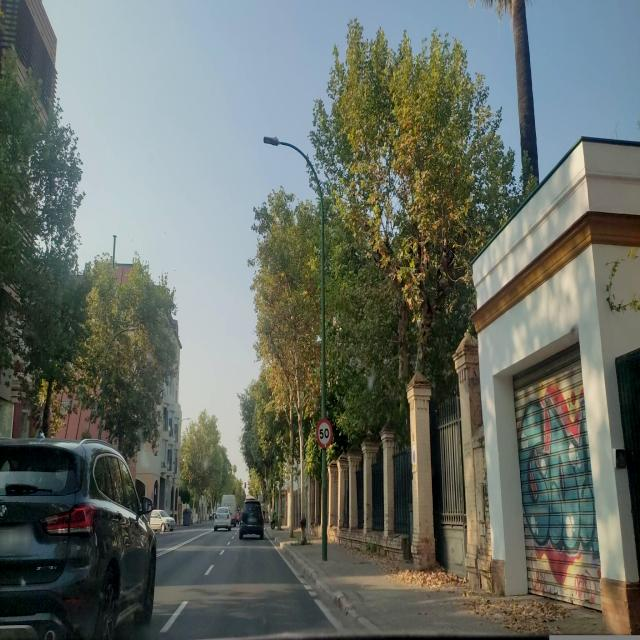car: (0, 433, 157, 639), (238, 498, 264, 540), (150, 509, 176, 532), (213, 506, 232, 532), (182, 508, 193, 526)
